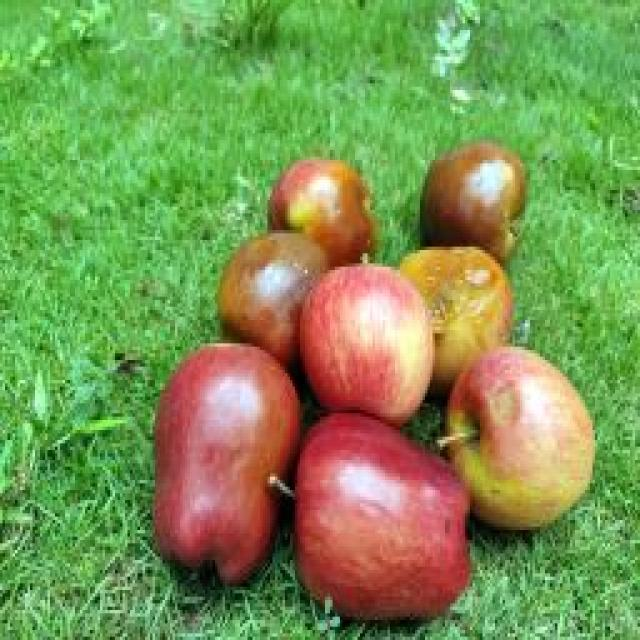Organik: (262, 398, 468, 616), (152, 340, 302, 607), (439, 330, 603, 546), (313, 254, 431, 419), (395, 242, 524, 384), (409, 134, 534, 260), (221, 228, 327, 357), (268, 156, 388, 260)
